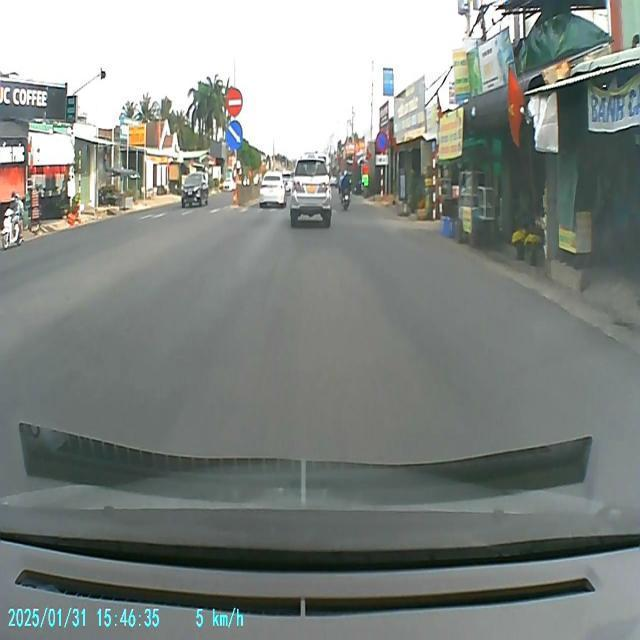102-cam-di-nguoc-chieu: (226, 88, 242, 116)
131a-cam-do-xe: (376, 132, 388, 152)
302a-huong-phai-di-vong-chuong-ngai-vat-1: (226, 120, 242, 148)
